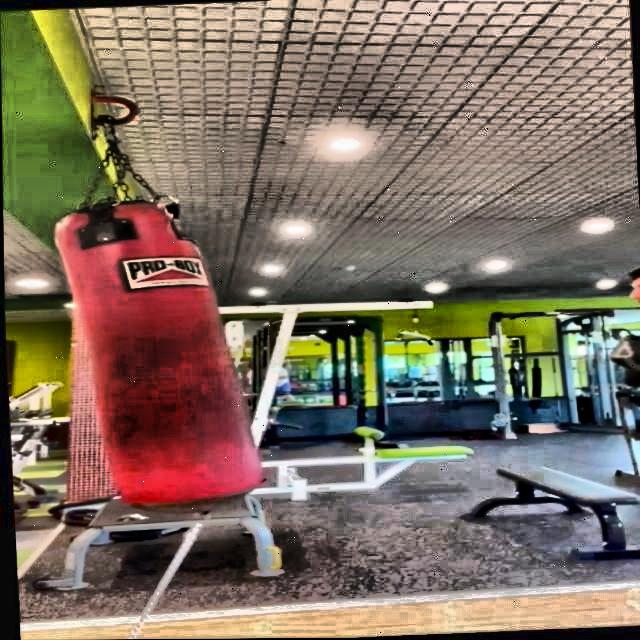boxing-bag: (46, 82, 258, 524)
